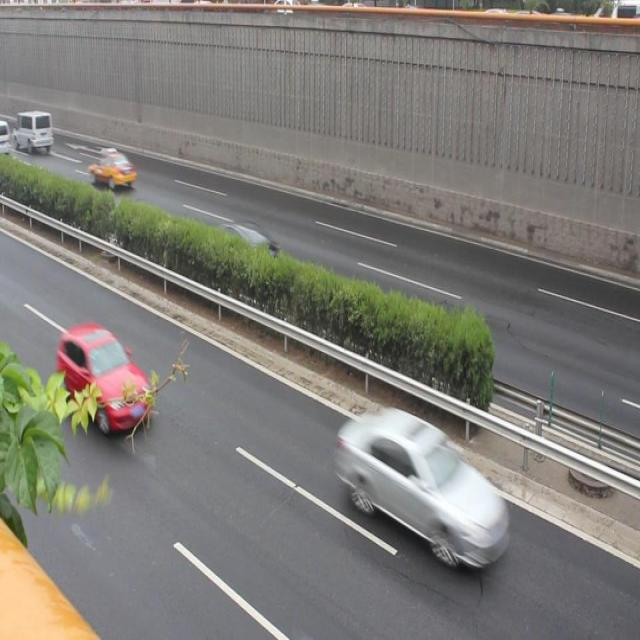car: (332, 402, 510, 573), (55, 318, 154, 436), (205, 219, 278, 278), (86, 143, 137, 196)
truck: (17, 108, 54, 150)
